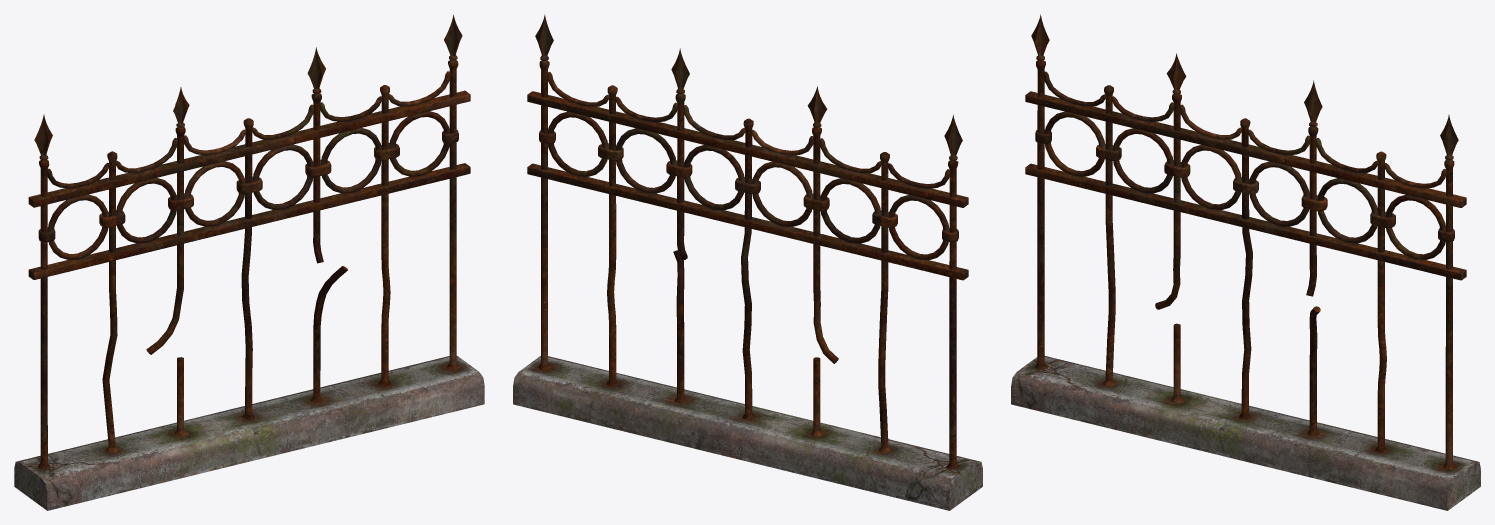
The model's file is SM_fence_03.fbx.
The picture shows the model from 3 angles, left to right: view 1: azimuth 30°, elevation 25°; view 2: azimuth 150°, elevation 25°; view 3: azimuth 330°, elevation 25°; orthographic projection.
Visible parts, largest first — view 1: SM_fence_03; view 2: SM_fence_03; view 3: SM_fence_03.
Part boxes in pixels (box(x1,y1,x2,y2)): SM_fence_03: box(14, 14, 484, 510); SM_fence_03: box(513, 14, 982, 510); SM_fence_03: box(1011, 14, 1480, 510).
Bounding box in the file's own units: 97.07 × 81.05 × 12.76.
